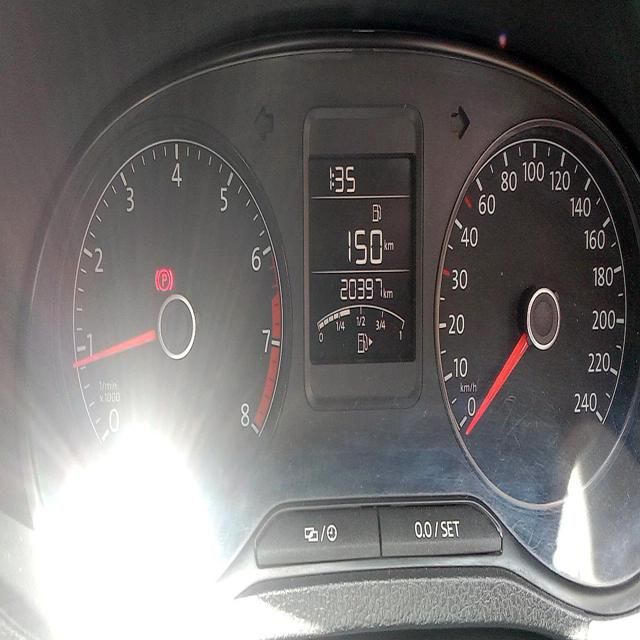odometer: (338, 272, 383, 303)
